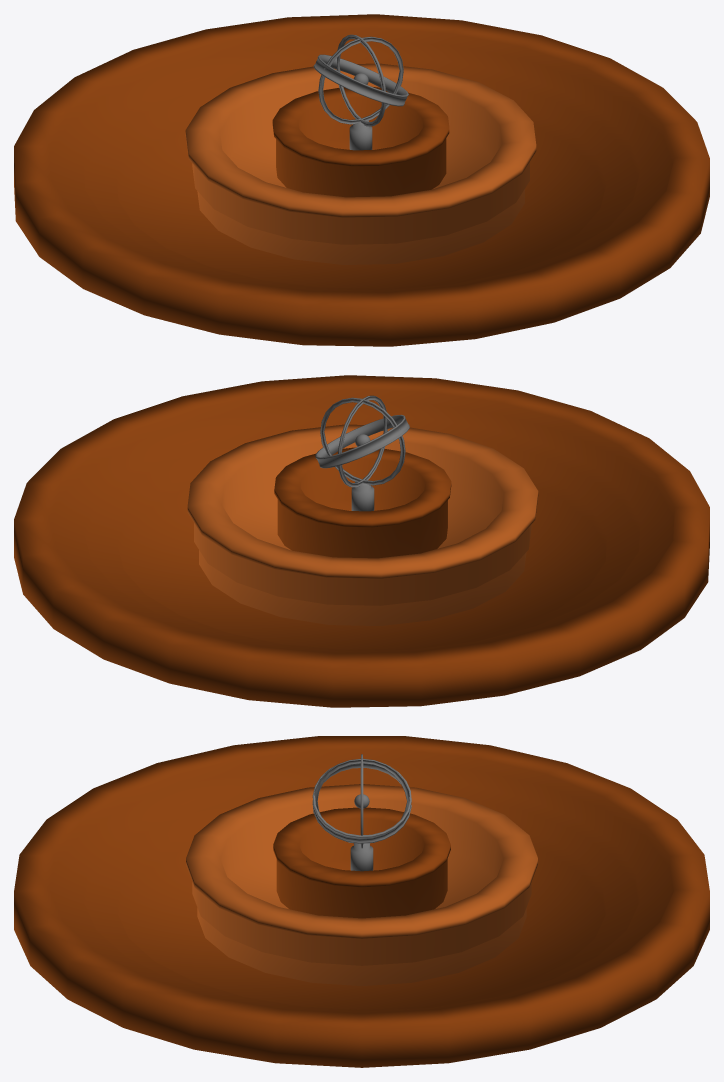
Rendered from Fountain new.obj.
3 views of the same model, one above another, from view 1: azimuth 30°, elevation 25°; view 2: azimuth 150°, elevation 25°; view 3: azimuth 270°, elevation 25° (orthographic).
Parts seen in each view (by area): view 1: Cone007, Cone006, Cone004, Cone003, Cone002, Cone001, Cone005; view 2: Cone007, Cone006, Cone004, Cone003, Cone002, Cone001, Cone005; view 3: Cone007, Cone006, Cone004, Cone003, Cone001, Cone005.
Boxes of the visible parts, x1,y1,x2,y2 form: Cone007: [14, 14, 709, 346]; Cone006: [185, 63, 536, 264]; Cone004: [272, 87, 449, 197]; Cone003: [313, 54, 408, 106]; Cone002: [318, 36, 403, 124]; Cone001: [336, 34, 385, 126]; Cone005: [349, 120, 372, 150]; Cone007: [14, 375, 709, 707]; Cone006: [187, 424, 538, 625]; Cone004: [274, 447, 451, 558]; Cone003: [315, 414, 409, 468]; Cone002: [320, 397, 405, 485]; Cone001: [338, 395, 387, 487]; Cone005: [351, 481, 374, 511]; Cone007: [14, 736, 709, 1067]; Cone006: [186, 784, 537, 985]; Cone004: [273, 807, 450, 918]; Cone003: [312, 763, 411, 843]; Cone001: [314, 758, 409, 843]; Cone005: [350, 843, 373, 871].
Size of the model in its own units: 250 by 64.02 by 250.
